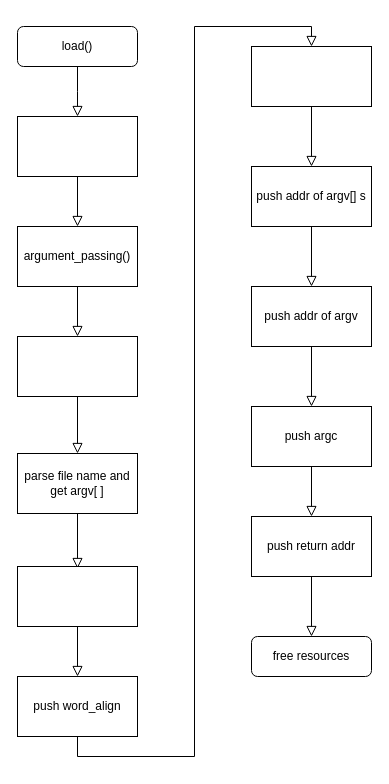
This 389x784 diagram has some shape labels left out. The centre of each missing label's shape, as x and y in pixels:
calculate argc: (77,366)
puah argv[ ]: (77,596)
push NULL: (311,76)
setup_stack(): (77,146)
